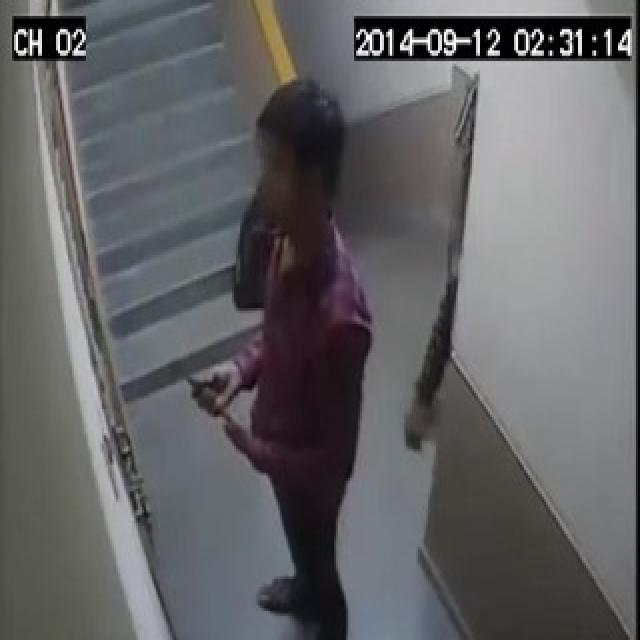thief: (213, 126, 378, 604)
